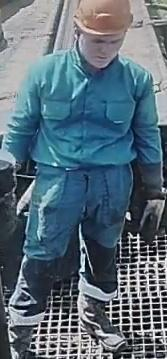gloves: (138, 195, 165, 242)
helmet: (73, 0, 133, 45)
vest: (11, 47, 167, 181)
